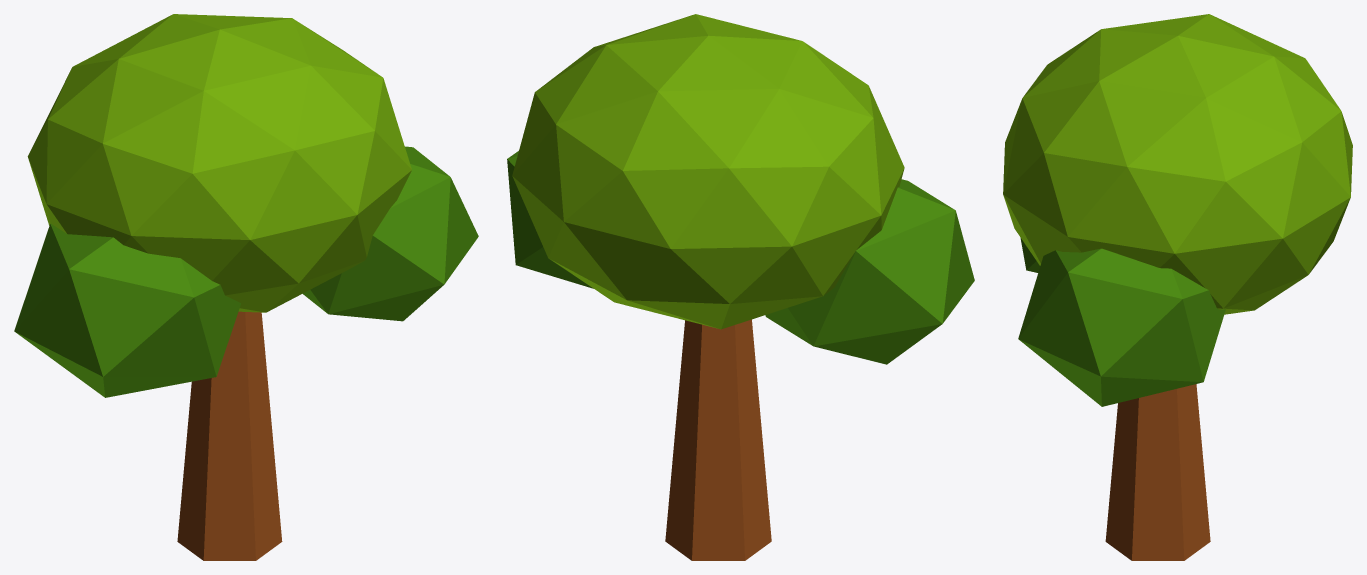
Rendered from prop-tree.glb.
3 renders of one model, left to right at view 1: azimuth 30°, elevation 25°; view 2: azimuth 150°, elevation 25°; view 3: azimuth 270°, elevation 25°, orthographic.
Parts seen in each view (by area): view 1: Prop_Tree; view 2: Prop_Tree; view 3: Prop_Tree.
Part boxes in pixels (<box>): Prop_Tree: <box>14,14,478,560</box>; Prop_Tree: <box>507,14,974,560</box>; Prop_Tree: <box>1003,14,1352,560</box>.
Size of the model in its own units: 6.36 by 7 by 4.39.
